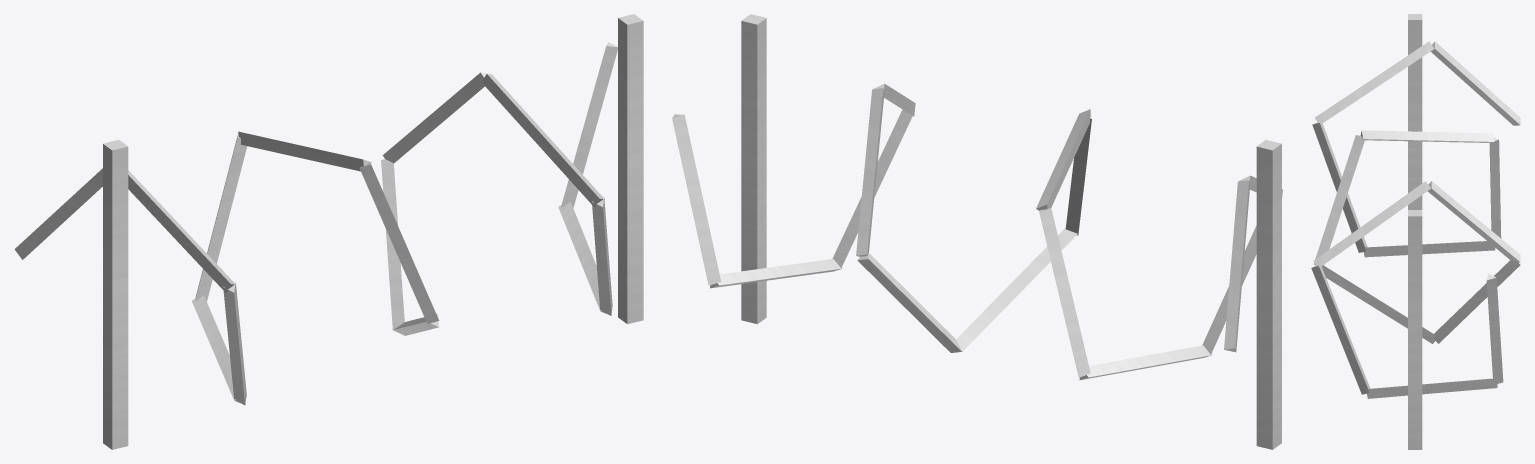
File: razor_wire.obj
3 renders of one model, left to right at view 1: azimuth 30°, elevation 25°; view 2: azimuth 150°, elevation 25°; view 3: azimuth 270°, elevation 25°, orthographic. The views are drawn at different scales.
Parts seen in each view (by area): view 1: razor_wire; view 2: razor_wire; view 3: razor_wire.
Boxes of the visible parts, x1,y1,x2,y2 form: razor_wire: (14, 14, 643, 449); razor_wire: (672, 14, 1282, 449); razor_wire: (1311, 14, 1520, 449).
Bounding box in the file's own units: 1.02 × 0.5 × 0.4064.
